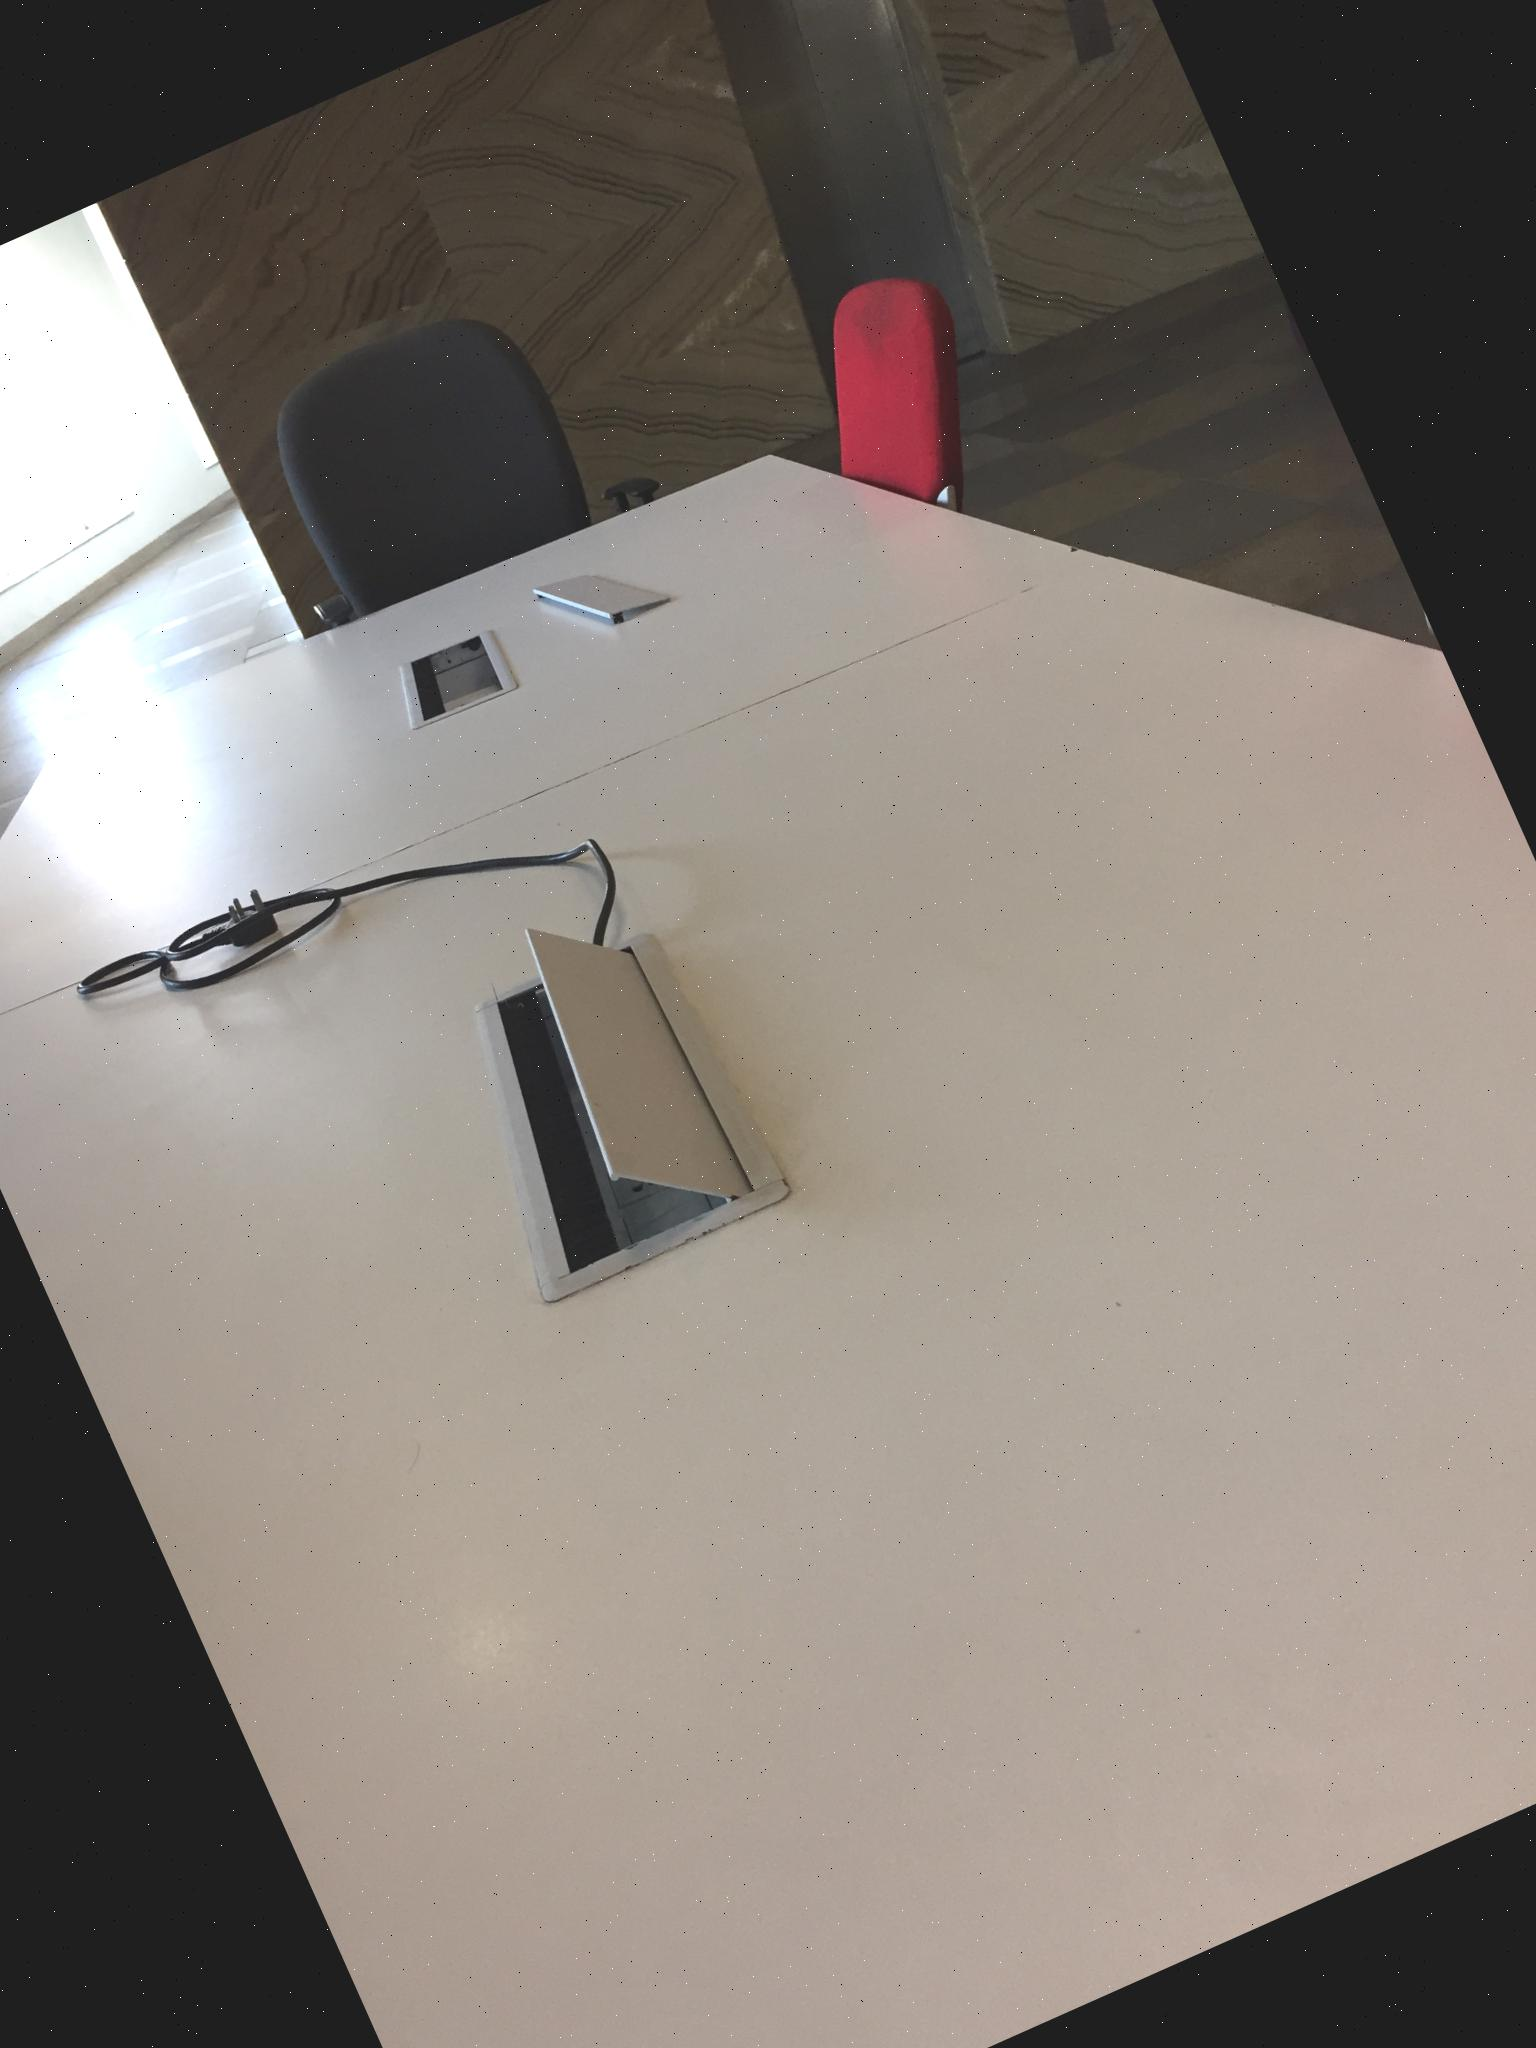chair: (221, 256, 663, 643), (773, 253, 1028, 550)
